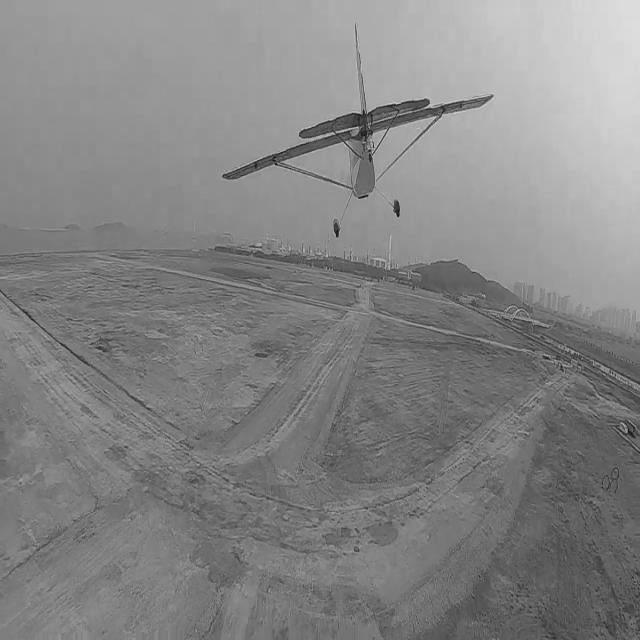iha: (223, 19, 498, 238)
